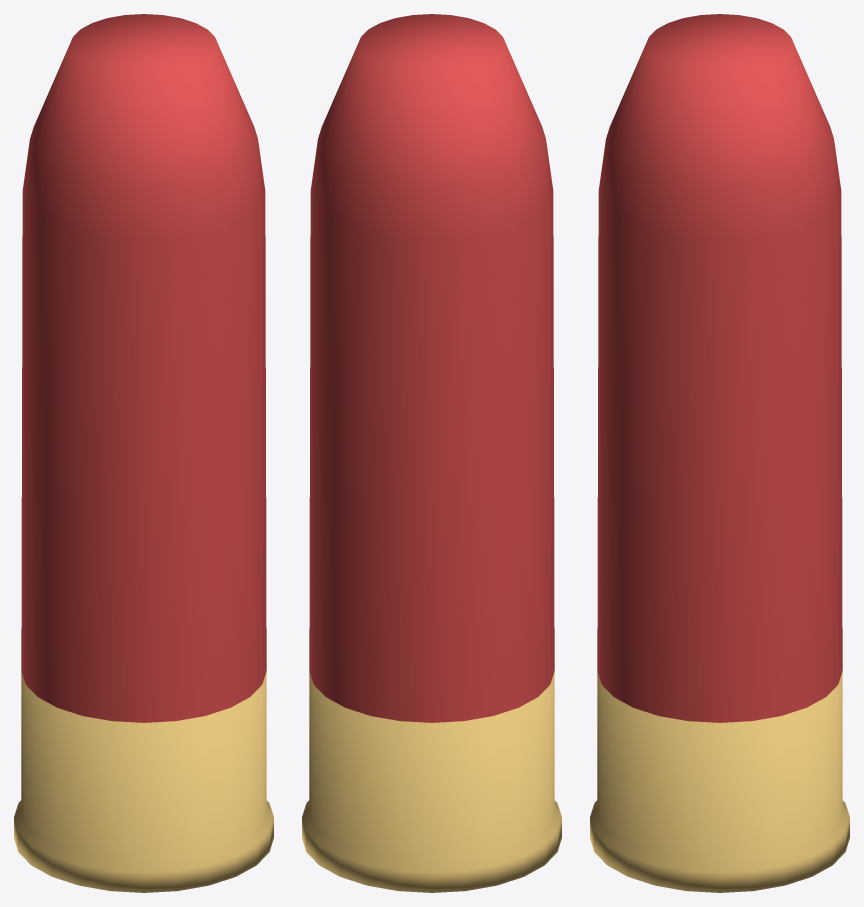
The model's file is 12ga_std.glb.
The picture shows the model from 3 angles, left to right: view 1: azimuth 30°, elevation 25°; view 2: azimuth 150°, elevation 25°; view 3: azimuth 270°, elevation 25°; orthographic projection.
Visible parts, largest first — view 1: cuerpo, culote; view 2: cuerpo, culote; view 3: cuerpo, culote.
Part boxes in pixels (x1,y1,x2,y2): cuerpo: (21,14,266,722); culote: (14,671,273,892); cuerpo: (309,14,554,722); culote: (302,671,561,892); cuerpo: (597,14,842,722); culote: (590,671,849,892).
Bounding box in the file's own units: 0.0226 × 0.076 × 0.0226.
